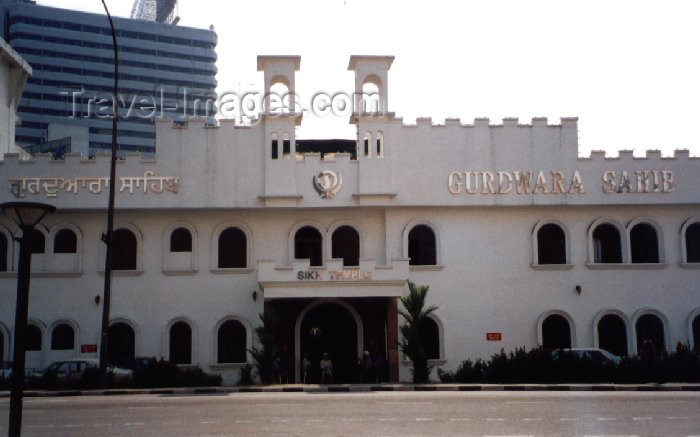Gurdwara: (11, 53, 686, 372)
